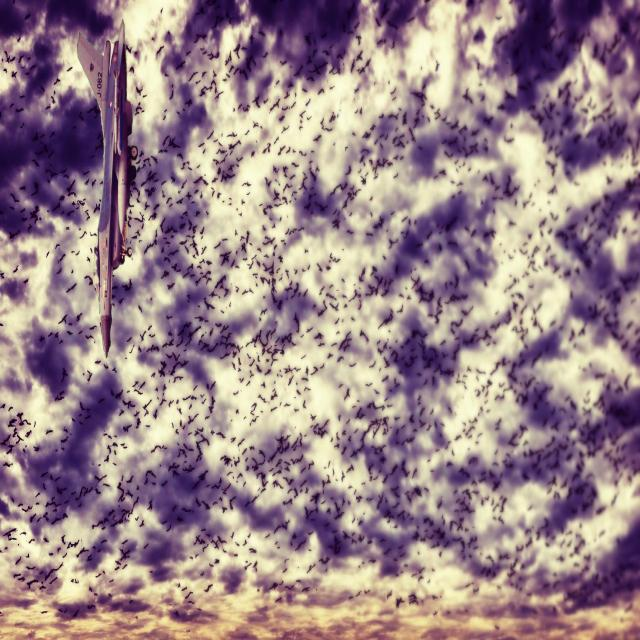airplane: (76, 18, 138, 357)
